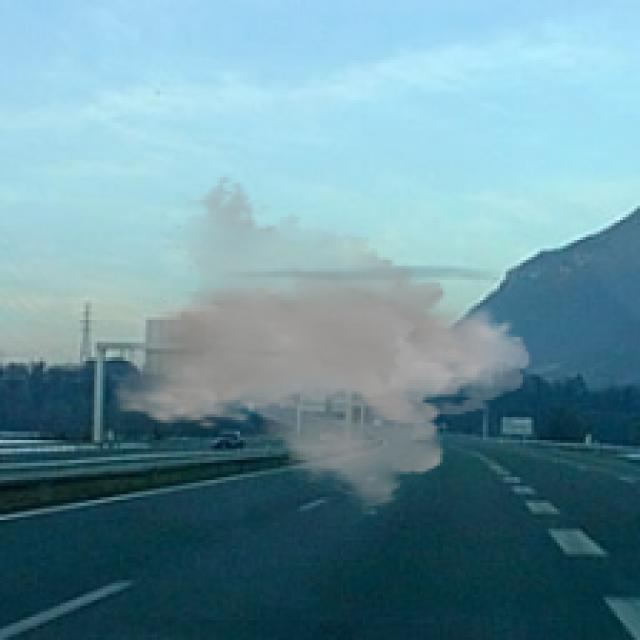smoke: (111, 174, 532, 517)
